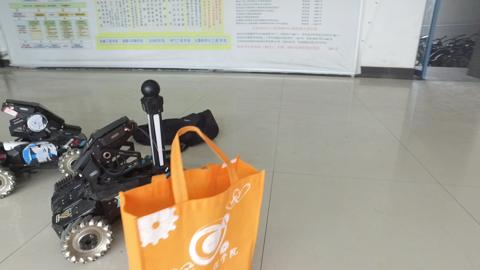bag: (122, 132, 262, 270)
chariot: (52, 78, 173, 261), (1, 95, 76, 200)
